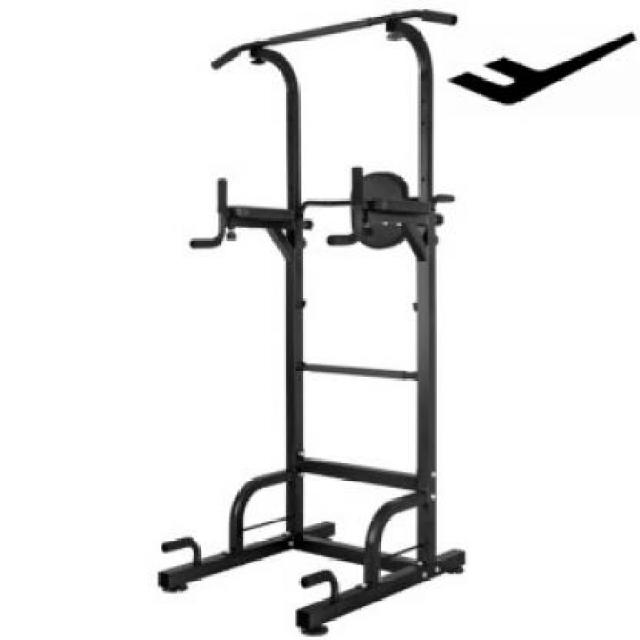chinning dipping: (162, 11, 466, 637)
